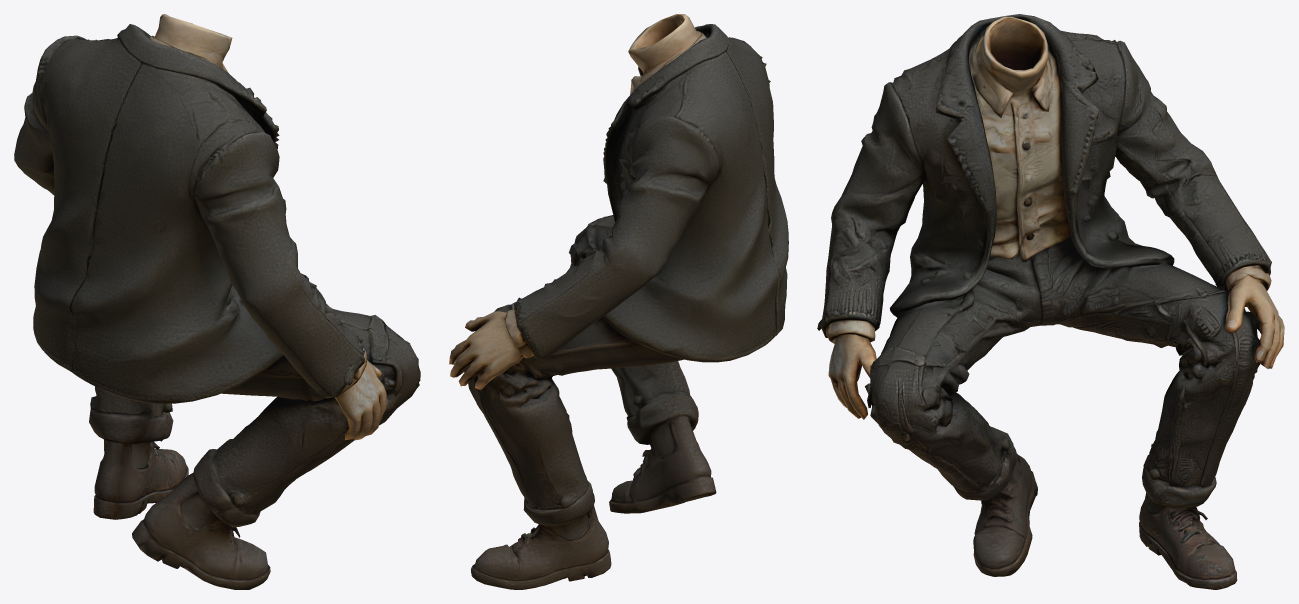
3 renders of one model, left to right at view 1: azimuth 30°, elevation 25°; view 2: azimuth 150°, elevation 25°; view 3: azimuth 270°, elevation 25°, orthographic. The views are drawn at different scales.
Parts seen in each view (by area): view 1: tripo_node_1c28d3a2-1597-4da7-b83c-d96eccfe2209; view 2: tripo_node_1c28d3a2-1597-4da7-b83c-d96eccfe2209; view 3: tripo_node_1c28d3a2-1597-4da7-b83c-d96eccfe2209.
Part boxes in pixels (x1,y1,x2,y2): tripo_node_1c28d3a2-1597-4da7-b83c-d96eccfe2209: (14, 14, 420, 589); tripo_node_1c28d3a2-1597-4da7-b83c-d96eccfe2209: (449, 14, 788, 589); tripo_node_1c28d3a2-1597-4da7-b83c-d96eccfe2209: (817, 14, 1284, 589).
Bounding box in the file's own units: 0.528 × 1 × 0.8067.
Materials: 1 (1 with a texture image).
